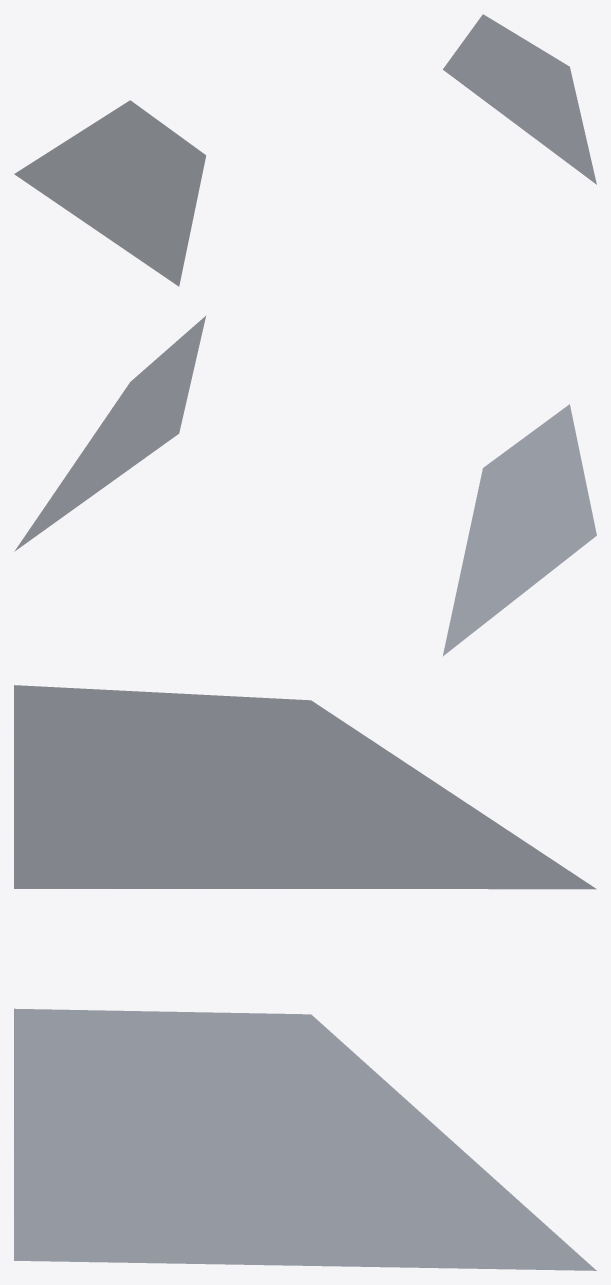
The model's file is GEO_DoorWindow_Front.glb.
3 renders of one model, top to bottom at view 1: azimuth 30°, elevation 25°; view 2: azimuth 150°, elevation 25°; view 3: azimuth 270°, elevation 25°, orthographic. The views are drawn at different scales.
Visible parts, largest first — view 1: GEO_DoorWindow_Front; view 2: GEO_DoorWindow_Front; view 3: GEO_DoorWindow_Front.
Part boxes in pixels (left/top/right/bottom): GEO_DoorWindow_Front: left=14, top=14, right=596, bottom=286; GEO_DoorWindow_Front: left=15, top=316, right=596, bottom=655; GEO_DoorWindow_Front: left=14, top=685, right=596, bottom=1270.
Size of the model in its own units: 1.58 by 0.45 by 1.02.
